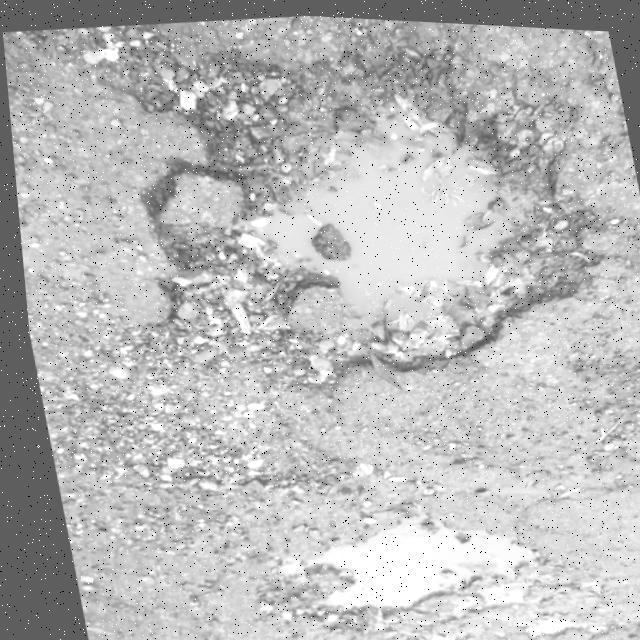pothole: (128, 22, 608, 424), (246, 478, 570, 640)
